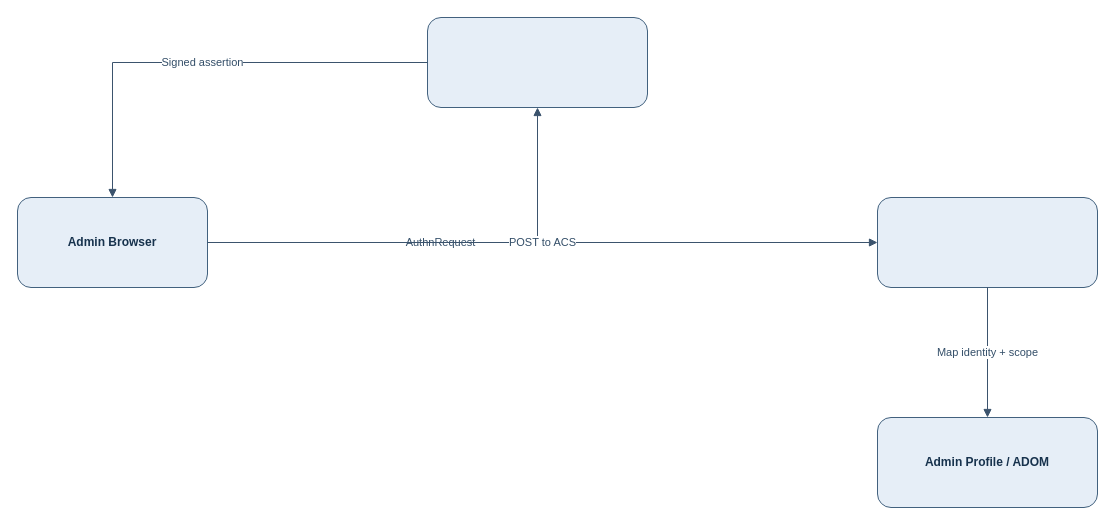
Some shapes in this 1115 by 525 pixel diagram are drawn without their labels. The centre of each missing label's shape, as x and y in pixels:
"FortiAnalyzer SP" goes at [987,242].
"SAML IdP" goes at [537,62].
